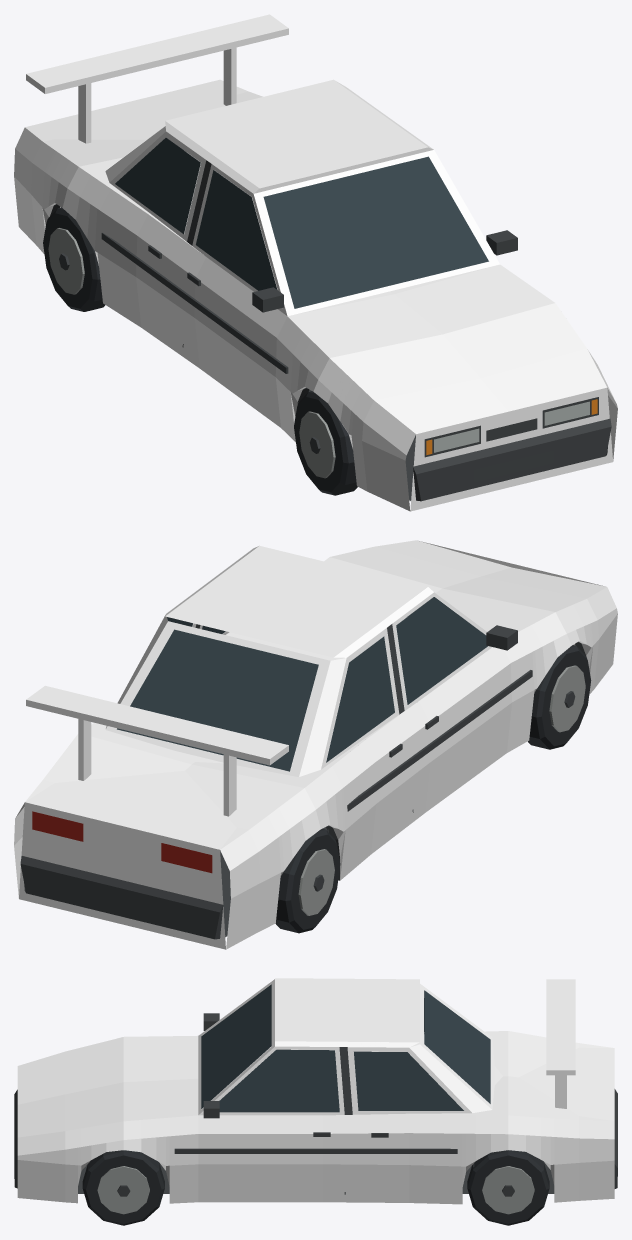
The model's file is hoshino_amagumo_corrida.glb.
3 views of the same model, one above another, from view 1: azimuth 30°, elevation 25°; view 2: azimuth 150°, elevation 25°; view 3: azimuth 270°, elevation 25° (orthographic). The views are drawn at different scales.
Visible parts, largest first — view 1: hoshino_amagumo_corrida; view 2: hoshino_amagumo_corrida; view 3: hoshino_amagumo_corrida.
Boxes of the visible parts, x1,y1,x2,y2 form: hoshino_amagumo_corrida: (14,14,617,511); hoshino_amagumo_corrida: (14,540,617,949); hoshino_amagumo_corrida: (14,978,617,1225).
Bounding box in the file's own units: 1.71 × 1.41 × 4.52.
8 materials, 1 textured.
